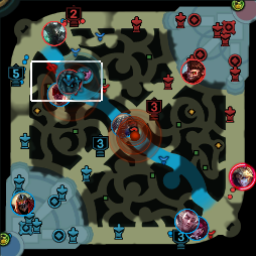ezreal: (230, 163, 253, 189)
fizz: (110, 111, 134, 136)
karthus: (56, 69, 80, 93)
leesin: (46, 82, 70, 106)
monkeyking: (180, 58, 205, 83)
mordekaiser: (41, 21, 66, 45)
rakan: (175, 209, 198, 233)
xayah: (184, 217, 208, 240)
zed: (11, 191, 35, 216)
